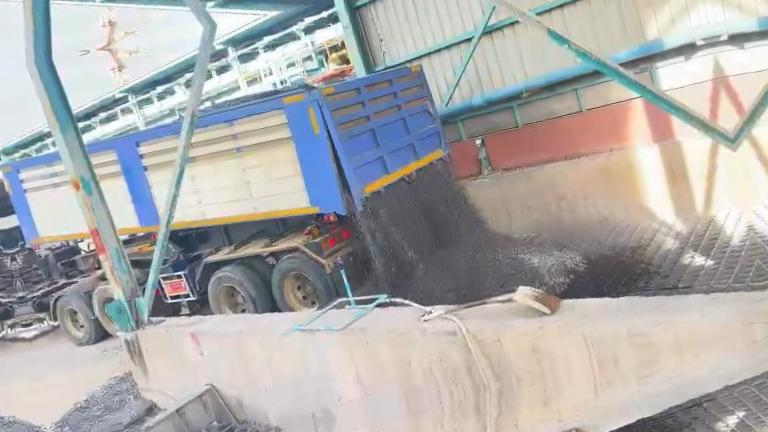gravel: (359, 165, 586, 304), (49, 373, 159, 432)
